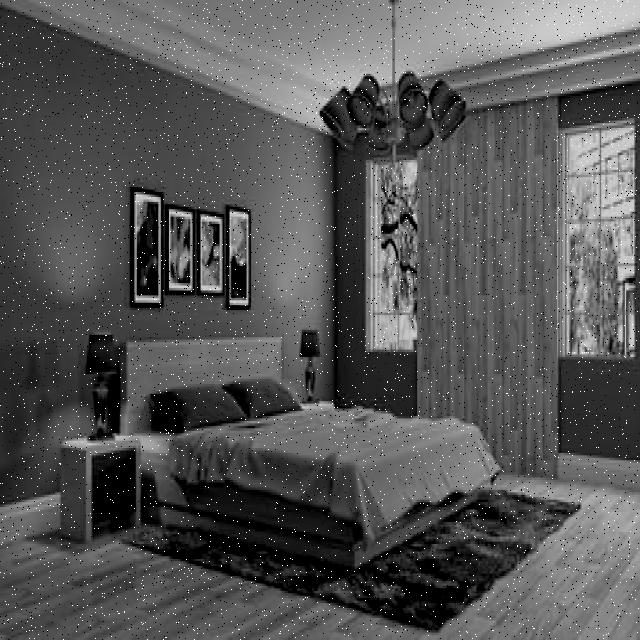bed: (130, 346, 465, 541)
